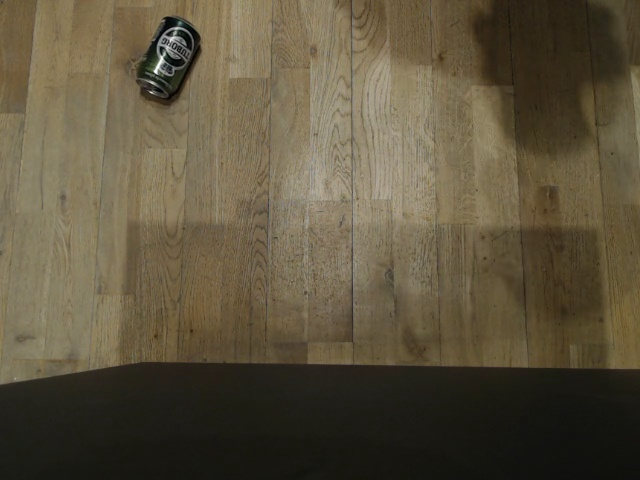beer: (131, 11, 203, 100)
